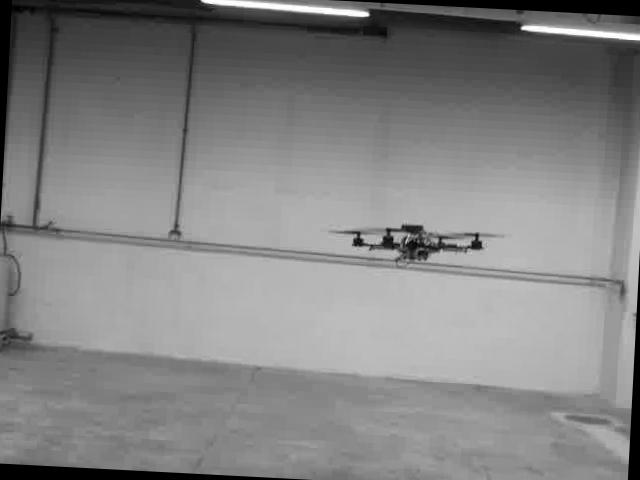drone: (340, 218, 492, 269)
